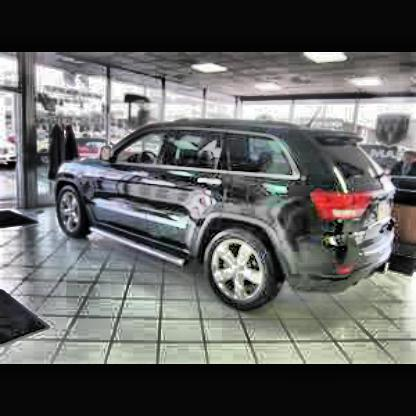Jeep Grand Cherokee SUV 2012: (56, 119, 398, 317)
